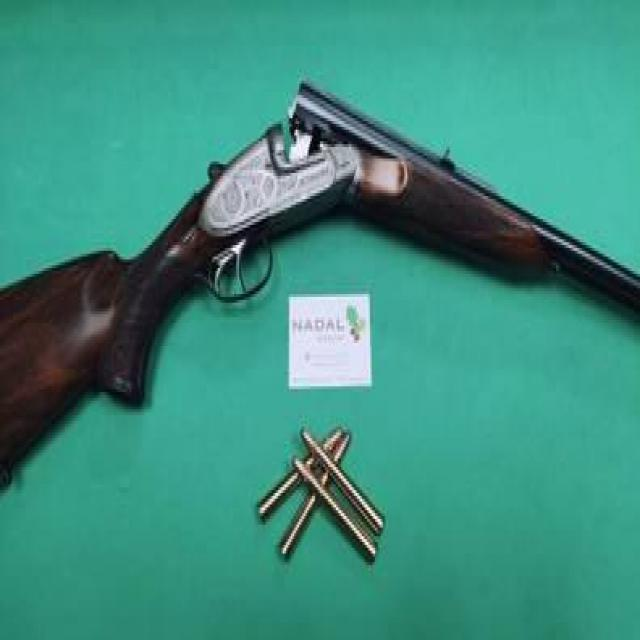weapon: (0, 75, 640, 493)
